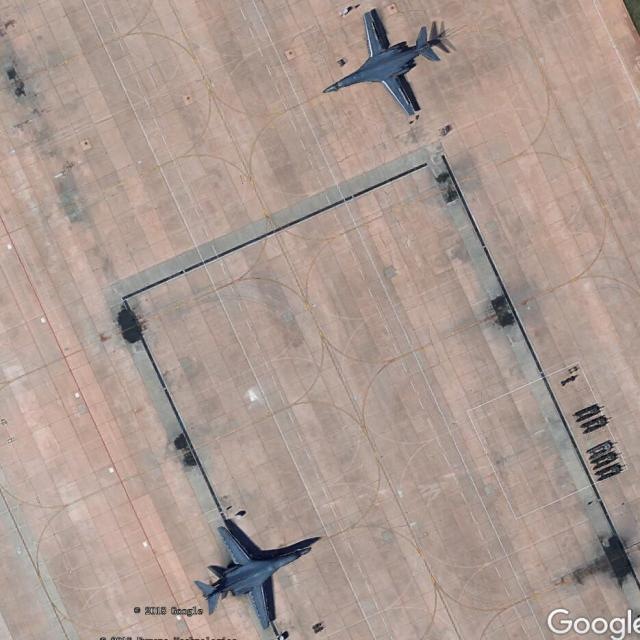fighter jet: (192, 514, 320, 628), (332, 4, 448, 122)
